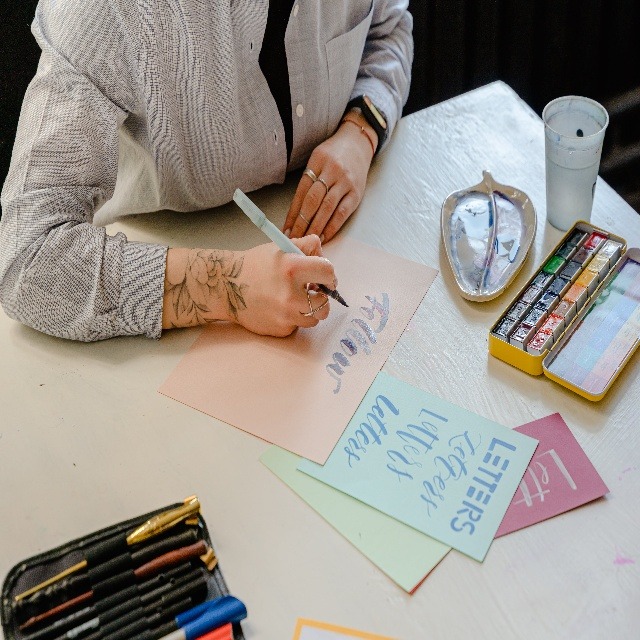Sin_guantes: (234, 233, 338, 341), (278, 137, 376, 244)
